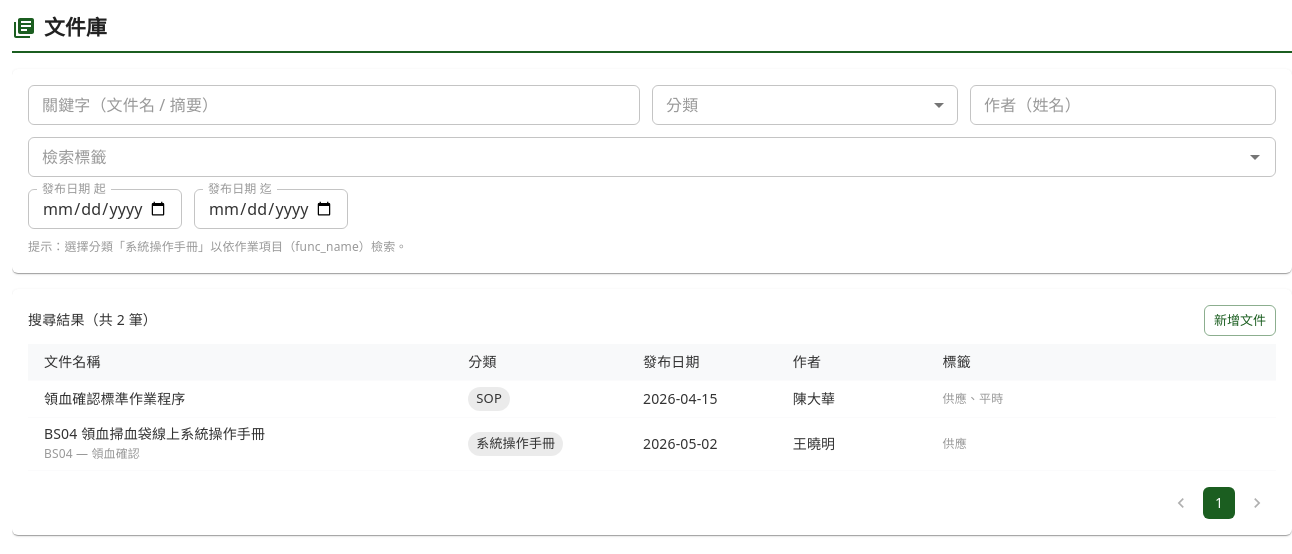
Test: DmLibraryPage 文件庫 › 檢索標籤下拉列出檢索標籤（供應 / 平時）
The width and height of the screenshot is (1292, 554).
Expected: the text "領血確認標準作業程序" is shown, [28, 380, 452, 417]
Click the dropdown labelled "檢索標籤": (636, 157) [34, 143, 1237, 171]
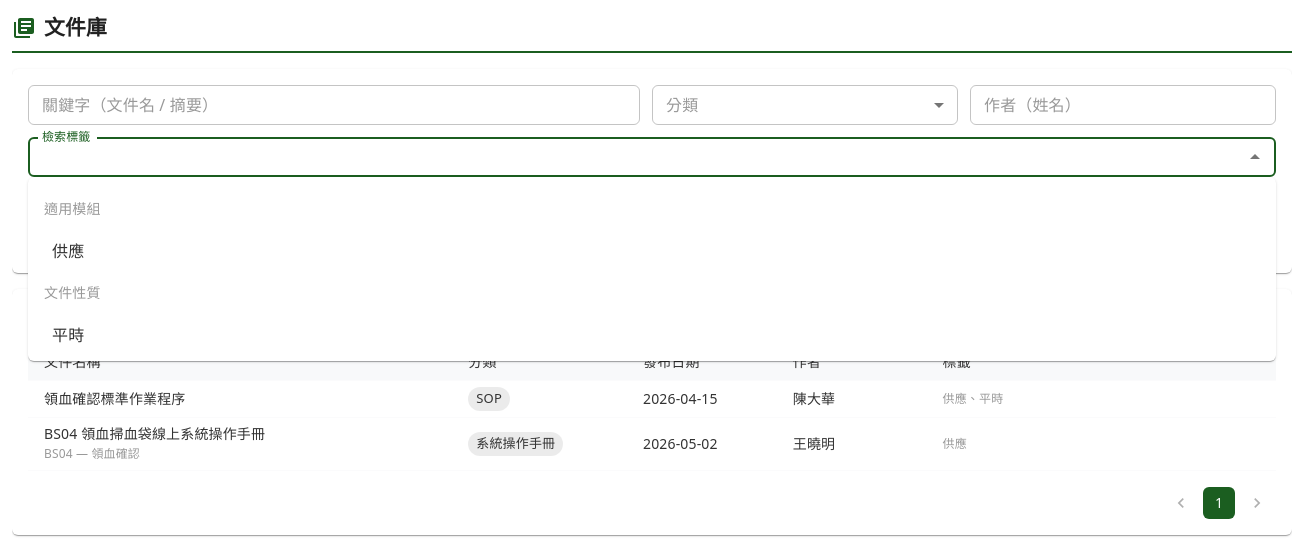
Expected: the option "供應" is shown, [52, 240, 84, 262]
Expected: the option "平時" is shown, [52, 324, 84, 346]
